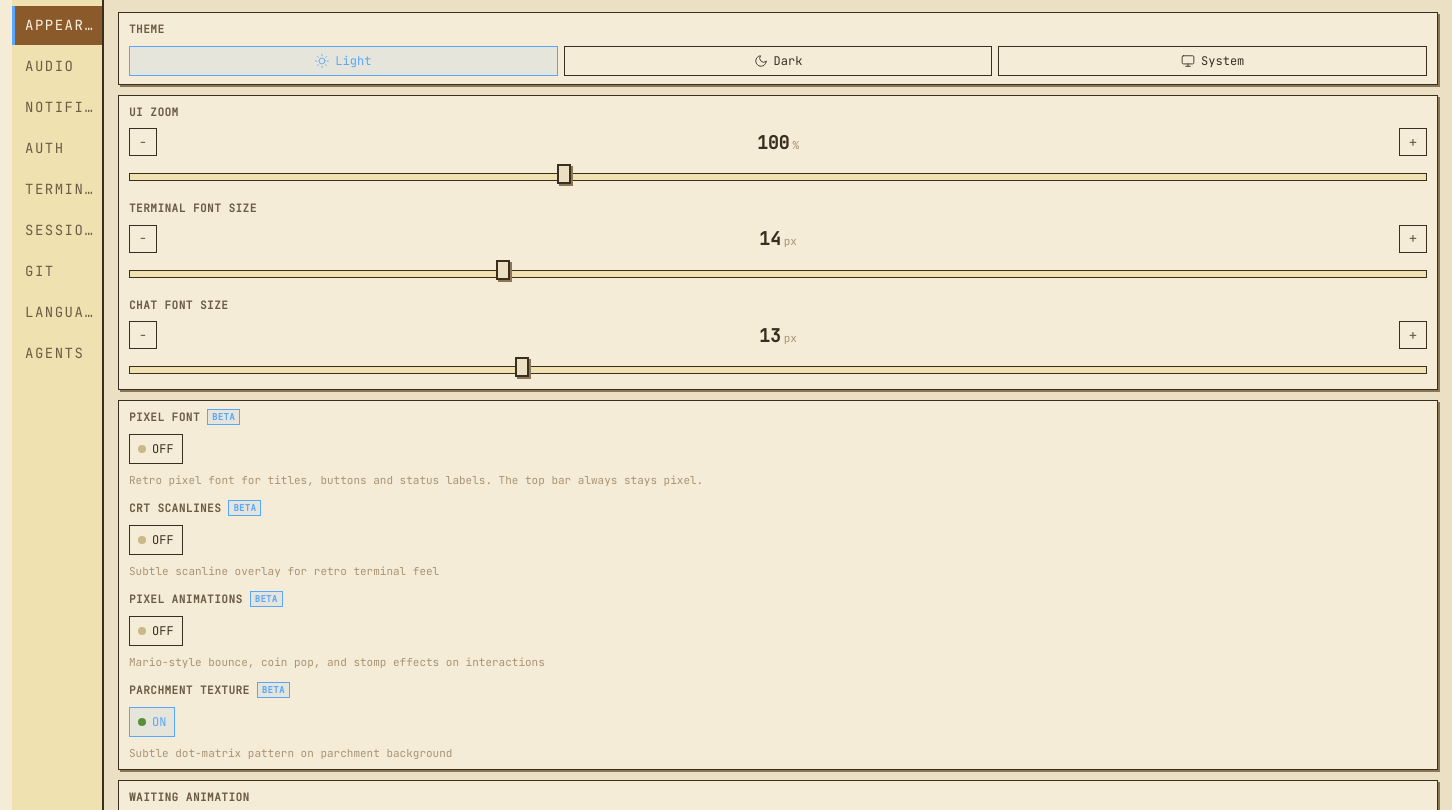
Test case: Settings permission timeout › offers the three modes with abort active by default
What coordinates should you click on to do the following:
click the button with class "settings-tab" showing "SESSIONS"
I would click on:
 (57, 230)
Its box is [12,211,102,250].
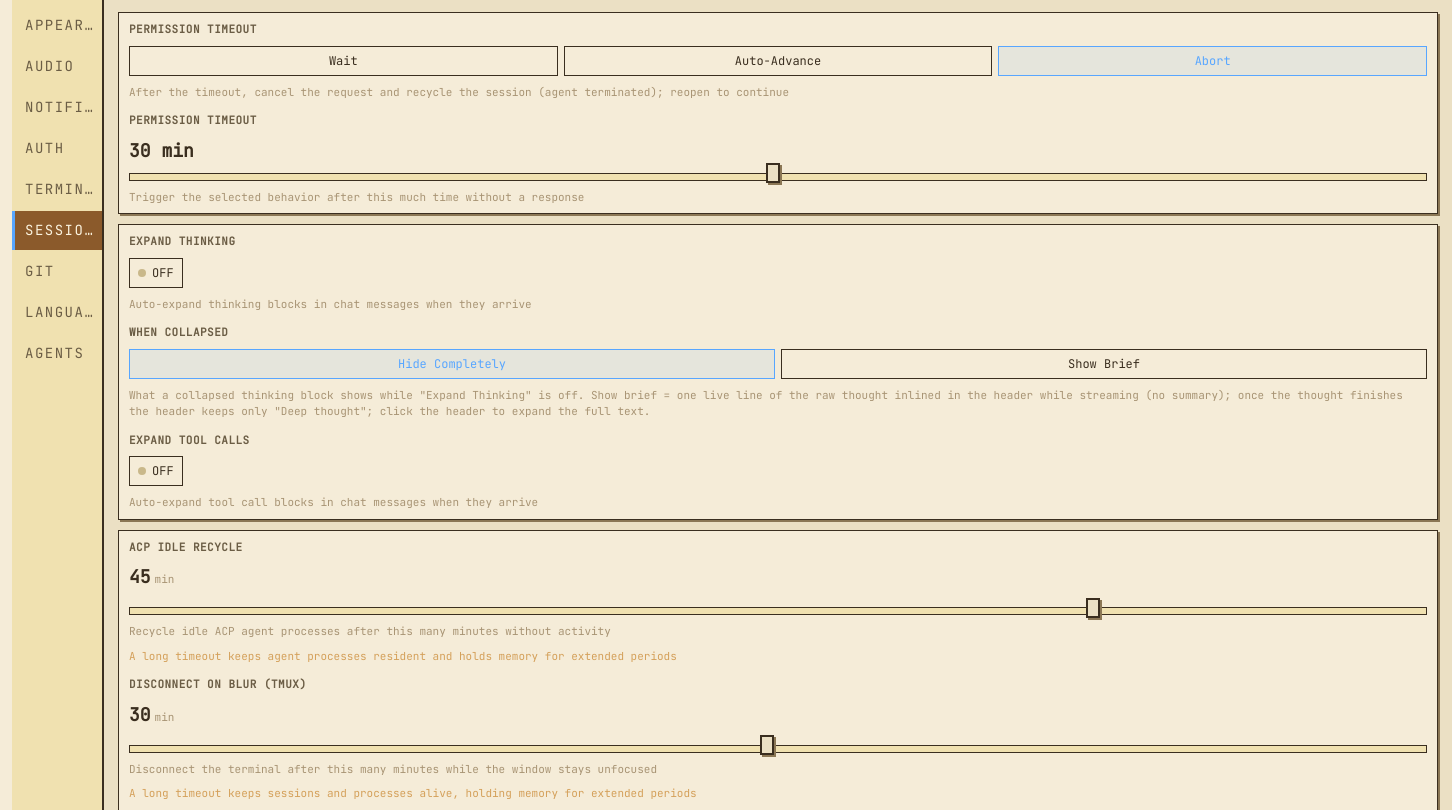
Expected: the button "Wait" is shown, [129,46,558,76]
Expected: the button "Auto-Advance" is shown, [564,46,992,76]
Expected: the button "Abort" is shown, [998,46,1427,76]
